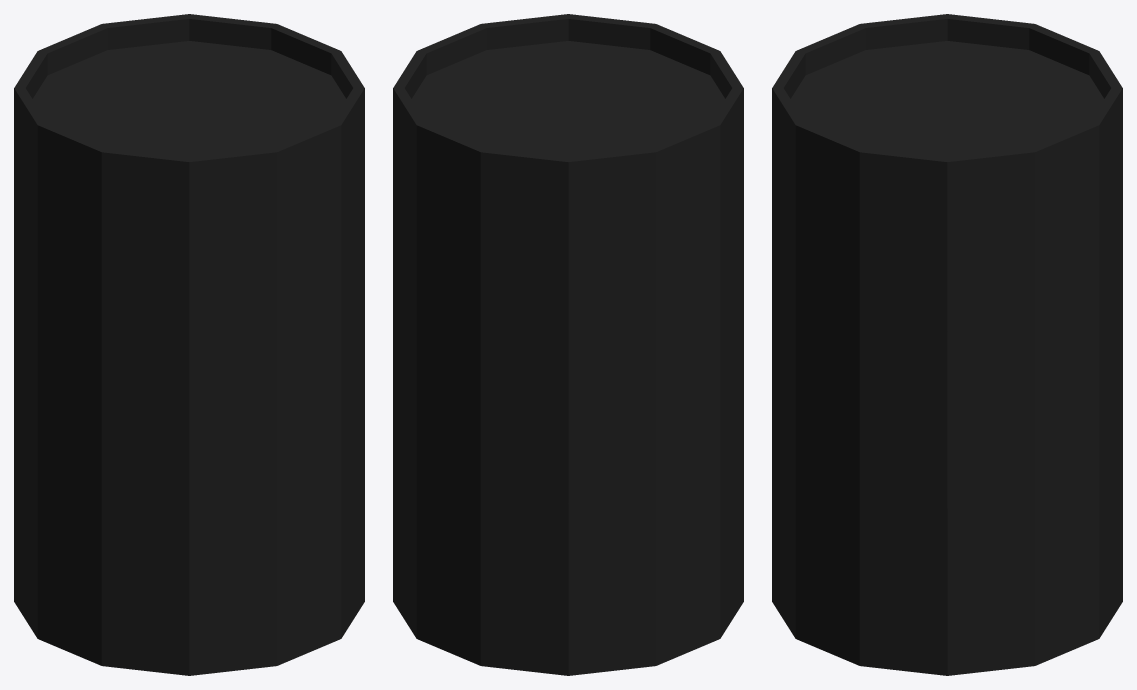
Rendered from SM_barrel_02.fbx.
3 renders of one model, left to right at view 1: azimuth 30°, elevation 25°; view 2: azimuth 150°, elevation 25°; view 3: azimuth 270°, elevation 25°, orthographic.
Visible parts, largest first — view 1: Cylinder021; view 2: Cylinder021; view 3: Cylinder021.
Part boxes in pixels (<box>): Cylinder021: <box>14,14,364,675</box>; Cylinder021: <box>393,14,743,675</box>; Cylinder021: <box>772,14,1122,675</box>.
Size of the model in its own units: 23.91 by 38.65 by 23.91.
